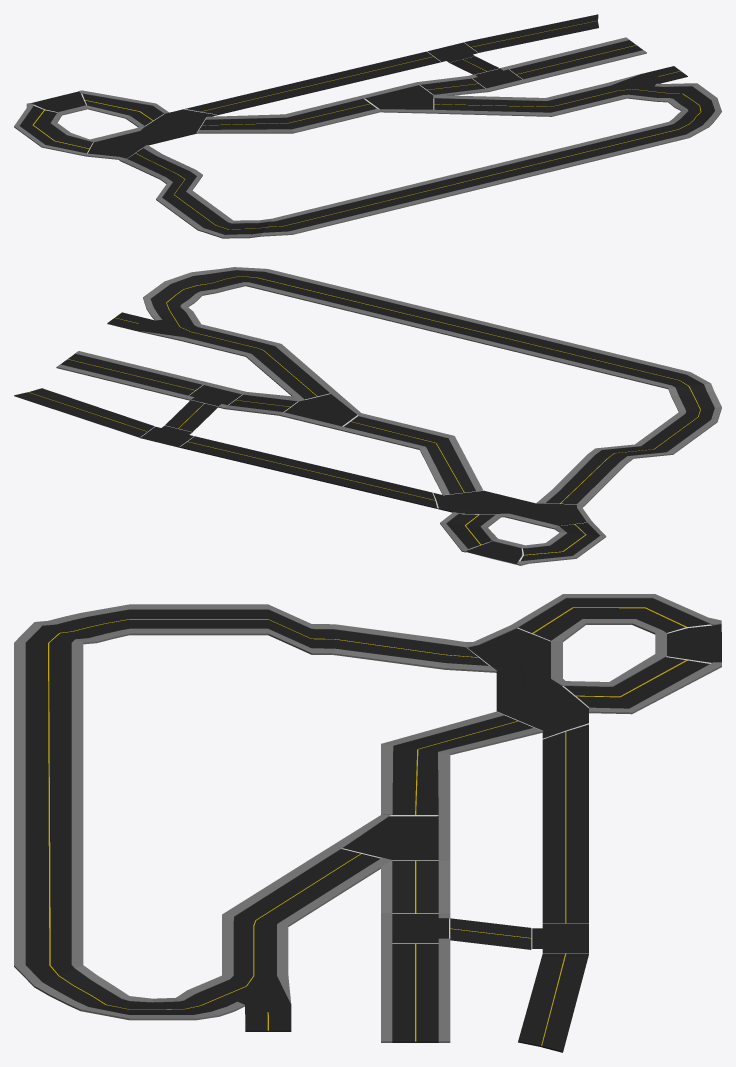
The model's file is Road2.fbx.
3 renders of one model, top to bottom at view 1: azimuth 30°, elevation 25°; view 2: azimuth 150°, elevation 25°; view 3: azimuth 270°, elevation 25°, orthographic. The views are drawn at different scales.
Parts seen in each view (by area): view 1: Road__3_Road_Cross5; view 2: Road__3_Road_Cross5; view 3: Road__3_Road_Cross5.
Part boxes in pixels (<box>): Road__3_Road_Cross5: <box>14,14,721,238</box>; Road__3_Road_Cross5: <box>14,267,721,565</box>; Road__3_Road_Cross5: <box>14,594,721,1052</box>.
Size of the model in its own units: 3700 by 125 by 2451.
